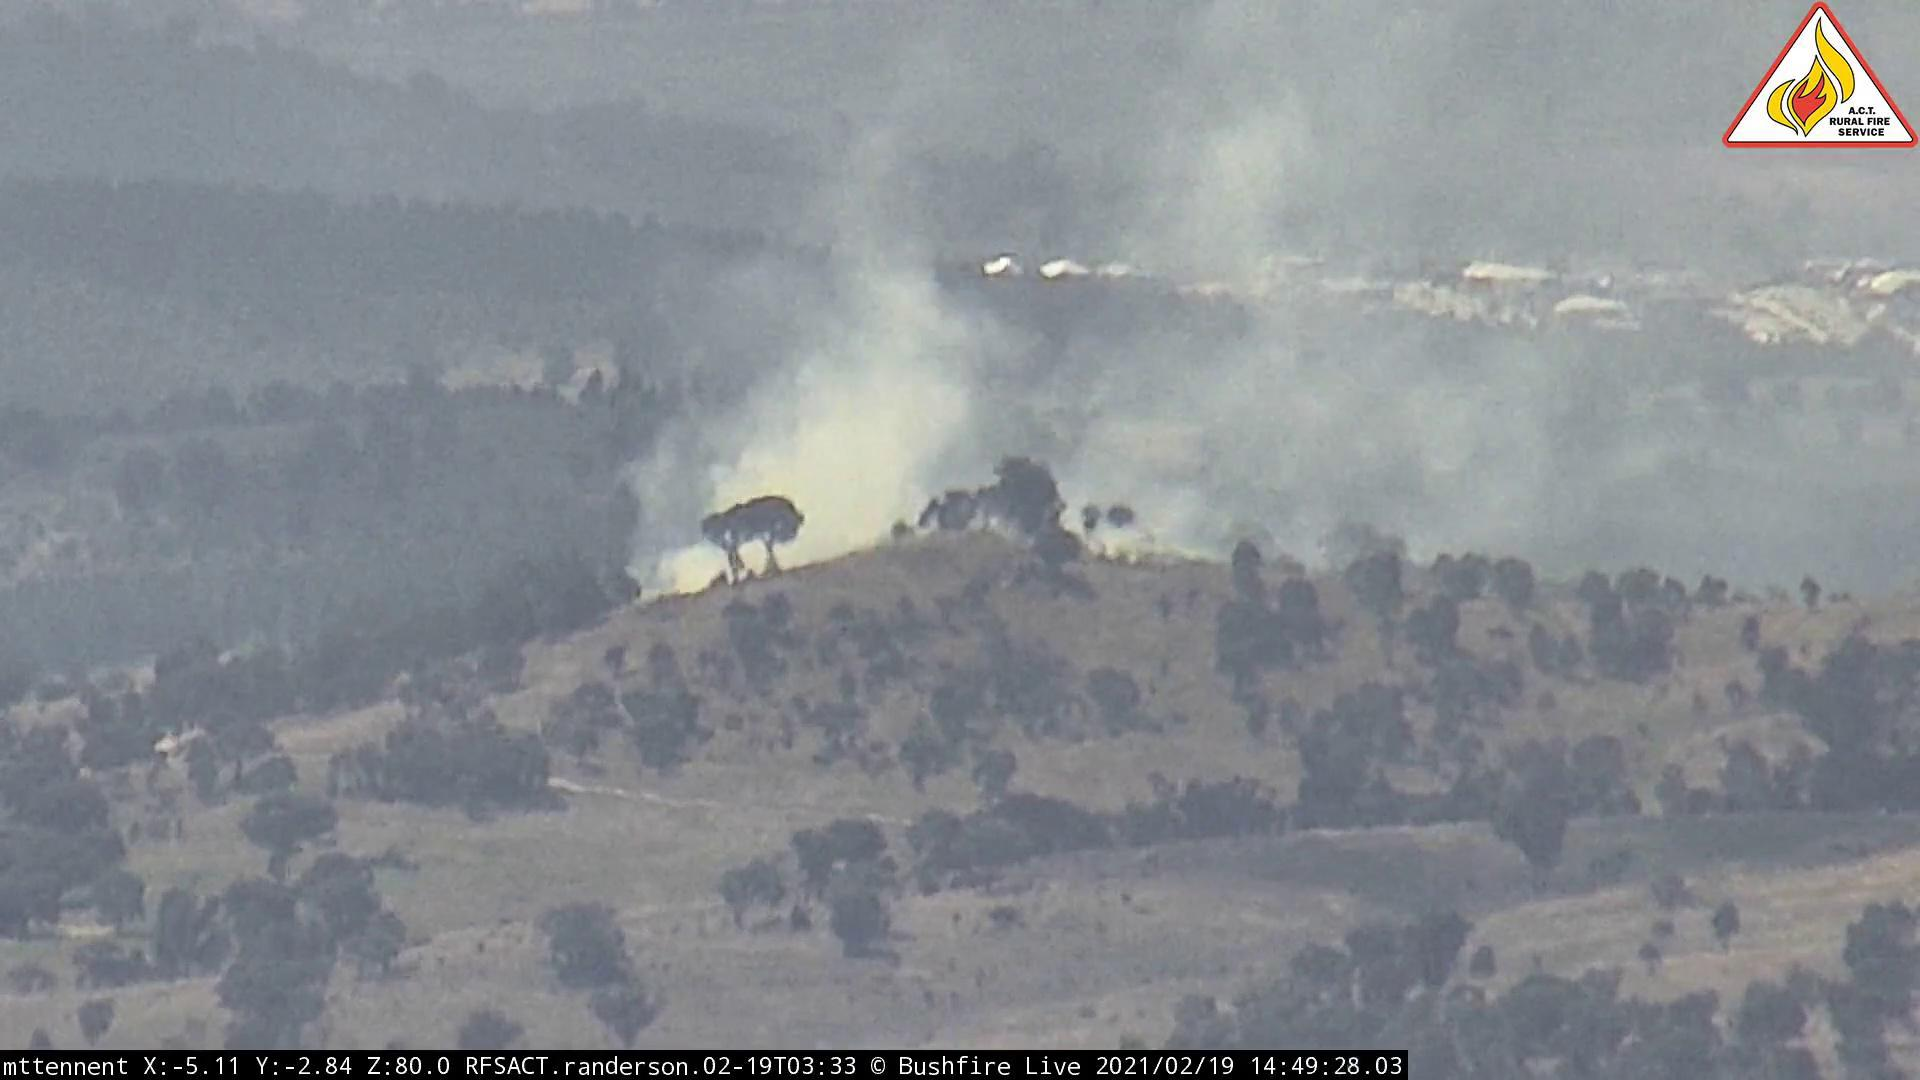instance_salient_object: (608, 53, 1627, 609)
